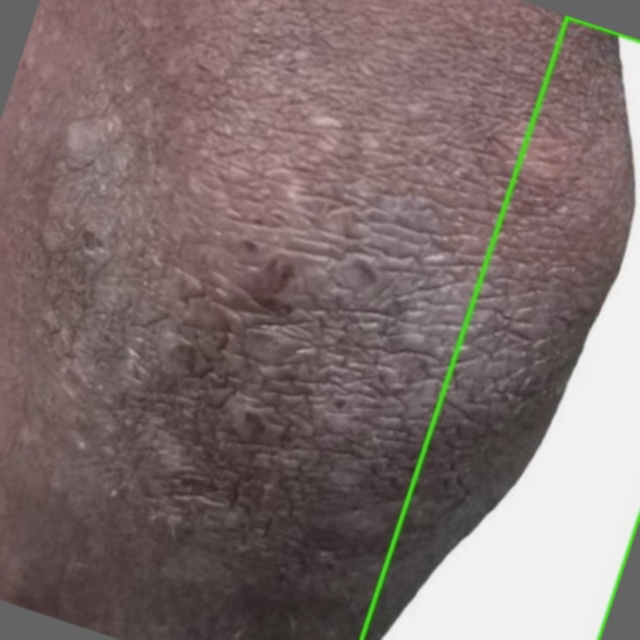Eczema: (360, 16, 639, 639)
